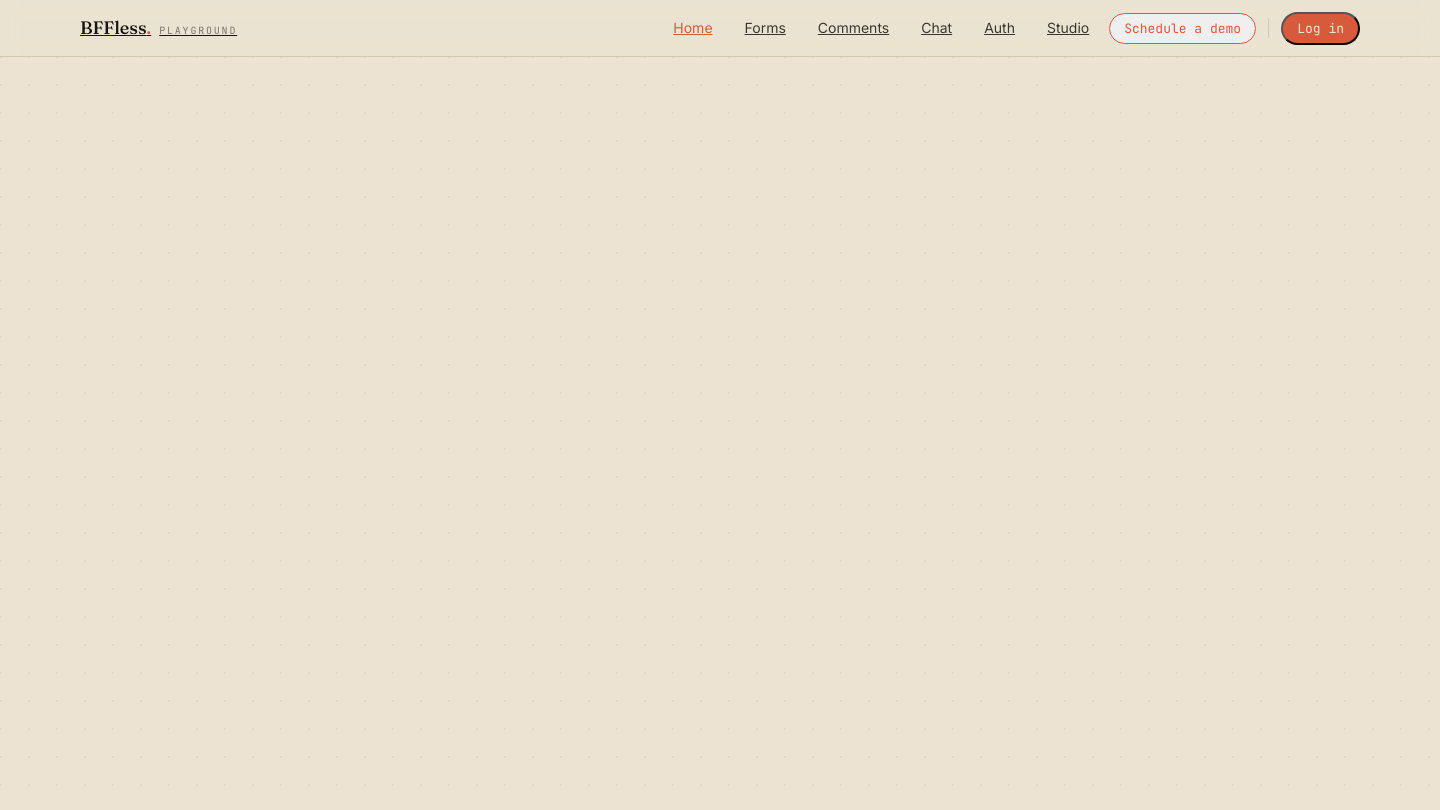
Test case: Header › opens the schedule-demo dialog from the header button
Click the button "Schedule a demo": click(1183, 28) [1109,12,1256,44]
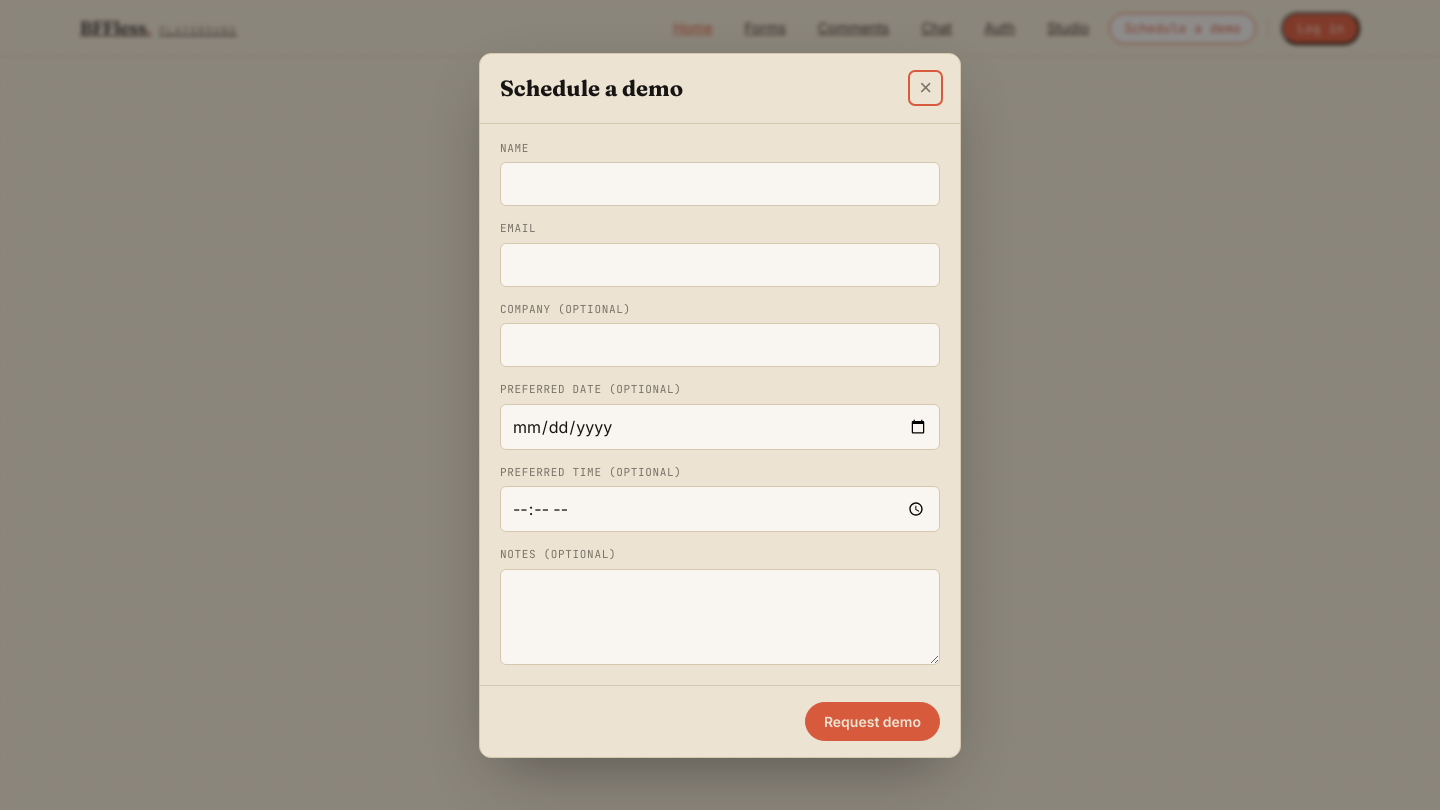
Result: the heading "Schedule a demo" is shown at [500,72,683,104]
